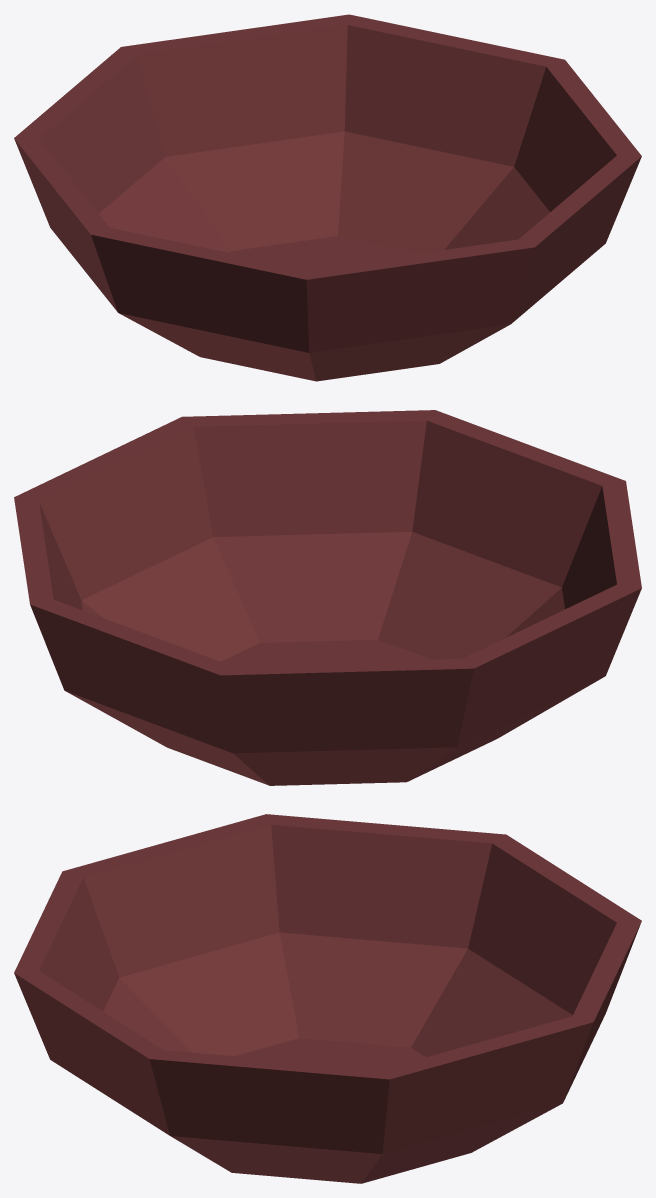
The model's file is Bowl_1 Asia.fbx.
3 views of the same model, one above another, from view 1: azimuth 30°, elevation 25°; view 2: azimuth 150°, elevation 25°; view 3: azimuth 270°, elevation 25° (orthographic). The views are drawn at different scales.
Parts seen in each view (by area): view 1: Bowl_1; view 2: Bowl_1; view 3: Bowl_1.
Boxes of the visible parts, left/top/right/bottom form: Bowl_1: left=14, top=14, right=641, bottom=381; Bowl_1: left=14, top=410, right=641, bottom=785; Bowl_1: left=14, top=814, right=641, bottom=1183.
Bounding box in the file's own units: 0.2452 × 0.0713 × 0.2452.
